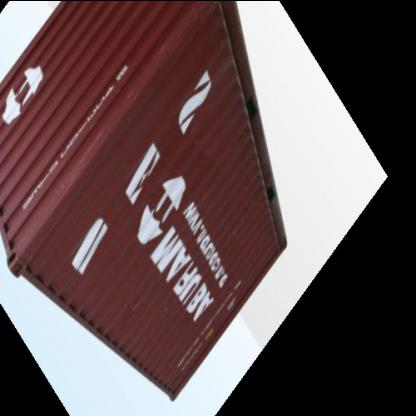Damage: (168, 126, 213, 168), (119, 291, 150, 317), (222, 221, 240, 250)
